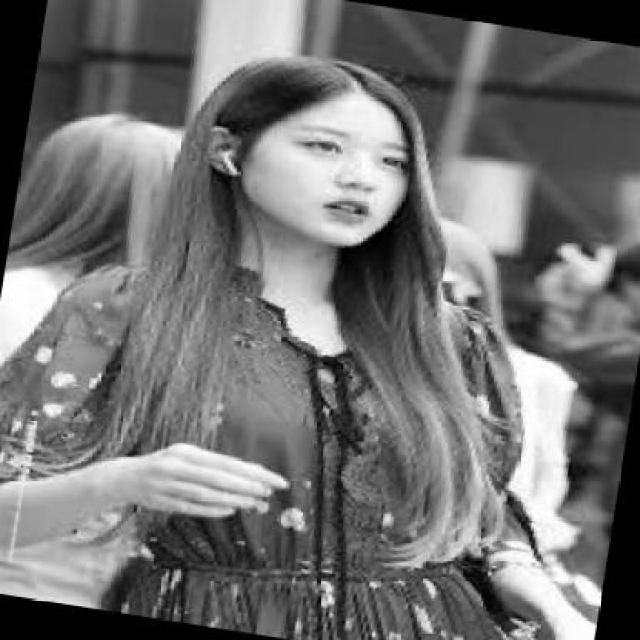earphone: (217, 147, 250, 195)
